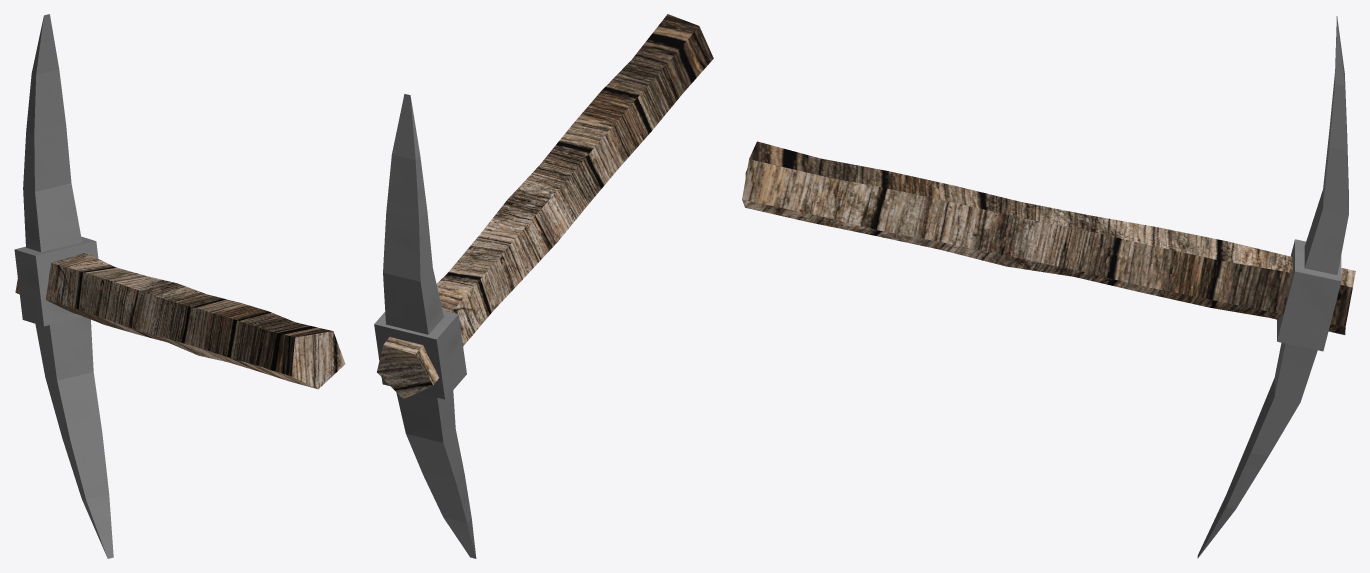
File: mypickaxe.obj
3 renders of one model, left to right at view 1: azimuth 30°, elevation 25°; view 2: azimuth 150°, elevation 25°; view 3: azimuth 270°, elevation 25°, orthographic. The views are drawn at different scales.
Parts seen in each view (by area): view 1: pickaxe_Cylinder.016_pickaxe_Cylinder.016_AxeBlade.001, pickaxe_Cylinder.016_pickaxe_Cylinder.016_Mat; view 2: pickaxe_Cylinder.016_pickaxe_Cylinder.016_Mat, pickaxe_Cylinder.016_pickaxe_Cylinder.016_AxeBlade.001; view 3: pickaxe_Cylinder.016_pickaxe_Cylinder.016_Mat, pickaxe_Cylinder.016_pickaxe_Cylinder.016_AxeBlade.001.
Boxes of the visible parts, x1,y1,x2,y2 form: pickaxe_Cylinder.016_pickaxe_Cylinder.016_AxeBlade.001: (14, 14, 113, 558); pickaxe_Cylinder.016_pickaxe_Cylinder.016_Mat: (15, 253, 345, 389); pickaxe_Cylinder.016_pickaxe_Cylinder.016_Mat: (377, 14, 713, 399); pickaxe_Cylinder.016_pickaxe_Cylinder.016_AxeBlade.001: (374, 94, 476, 558); pickaxe_Cylinder.016_pickaxe_Cylinder.016_Mat: (742, 141, 1355, 334); pickaxe_Cylinder.016_pickaxe_Cylinder.016_AxeBlade.001: (1197, 16, 1348, 558).
Size of the model in its own units: 0.8729 by 6.84 by 7.02.
Materials: 2 (2 with a texture image).
